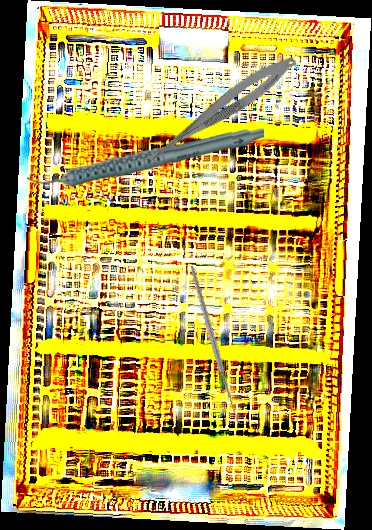Handpiece: (26, 121, 265, 191)
Hook Surgical: (157, 266, 280, 425)
Micro Scissor: (134, 47, 301, 179)
